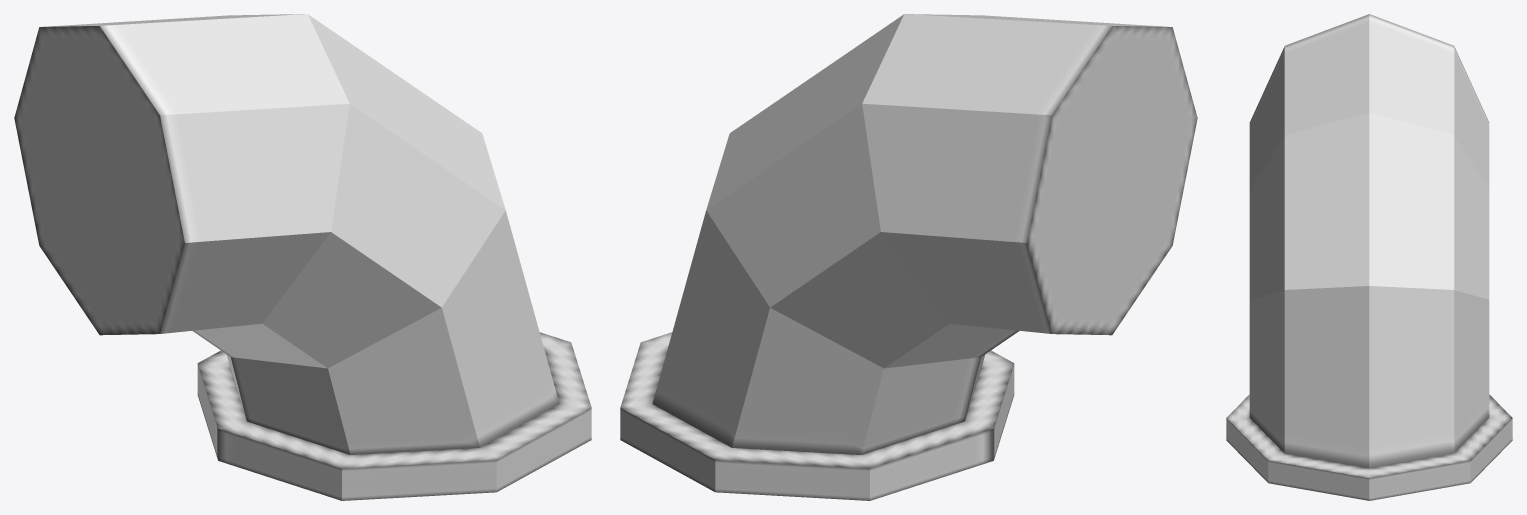
The model's file is Pipe-02.fbx.
3 renders of one model, left to right at view 1: azimuth 30°, elevation 25°; view 2: azimuth 150°, elevation 25°; view 3: azimuth 270°, elevation 25°, orthographic. The views are drawn at different scales.
Visible parts, largest first — view 1: Pipe_02; view 2: Pipe_02; view 3: Pipe_02.
Part boxes in pixels (x1=…): Pipe_02: x1=14, y1=14, x2=591, y2=500; Pipe_02: x1=620, y1=14, x2=1197, y2=500; Pipe_02: x1=1226, y1=14, x2=1512, y2=500.
Bounding box in the file's own units: 0.7979 × 0.7498 × 0.5974.
